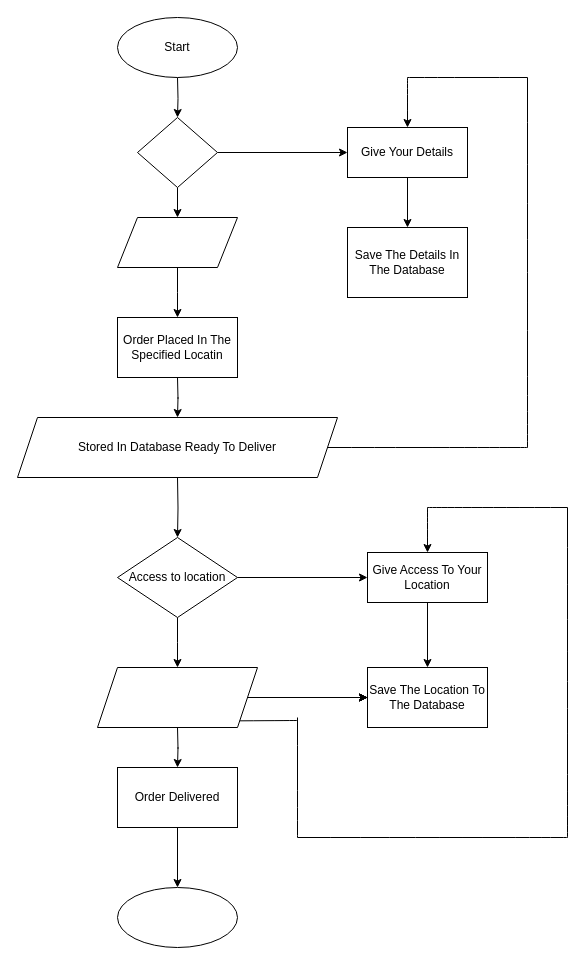
The diagram is 586 pixels wide and 965 high, and some of its shapes have lost their labels. Each missing label, with the centre of its shape:
"End" goes at (x=177, y=917).
"New User" goes at (x=177, y=152).
"Order Details" goes at (x=177, y=242).
"Order Placed In The Specified Location" goes at (x=177, y=697).
